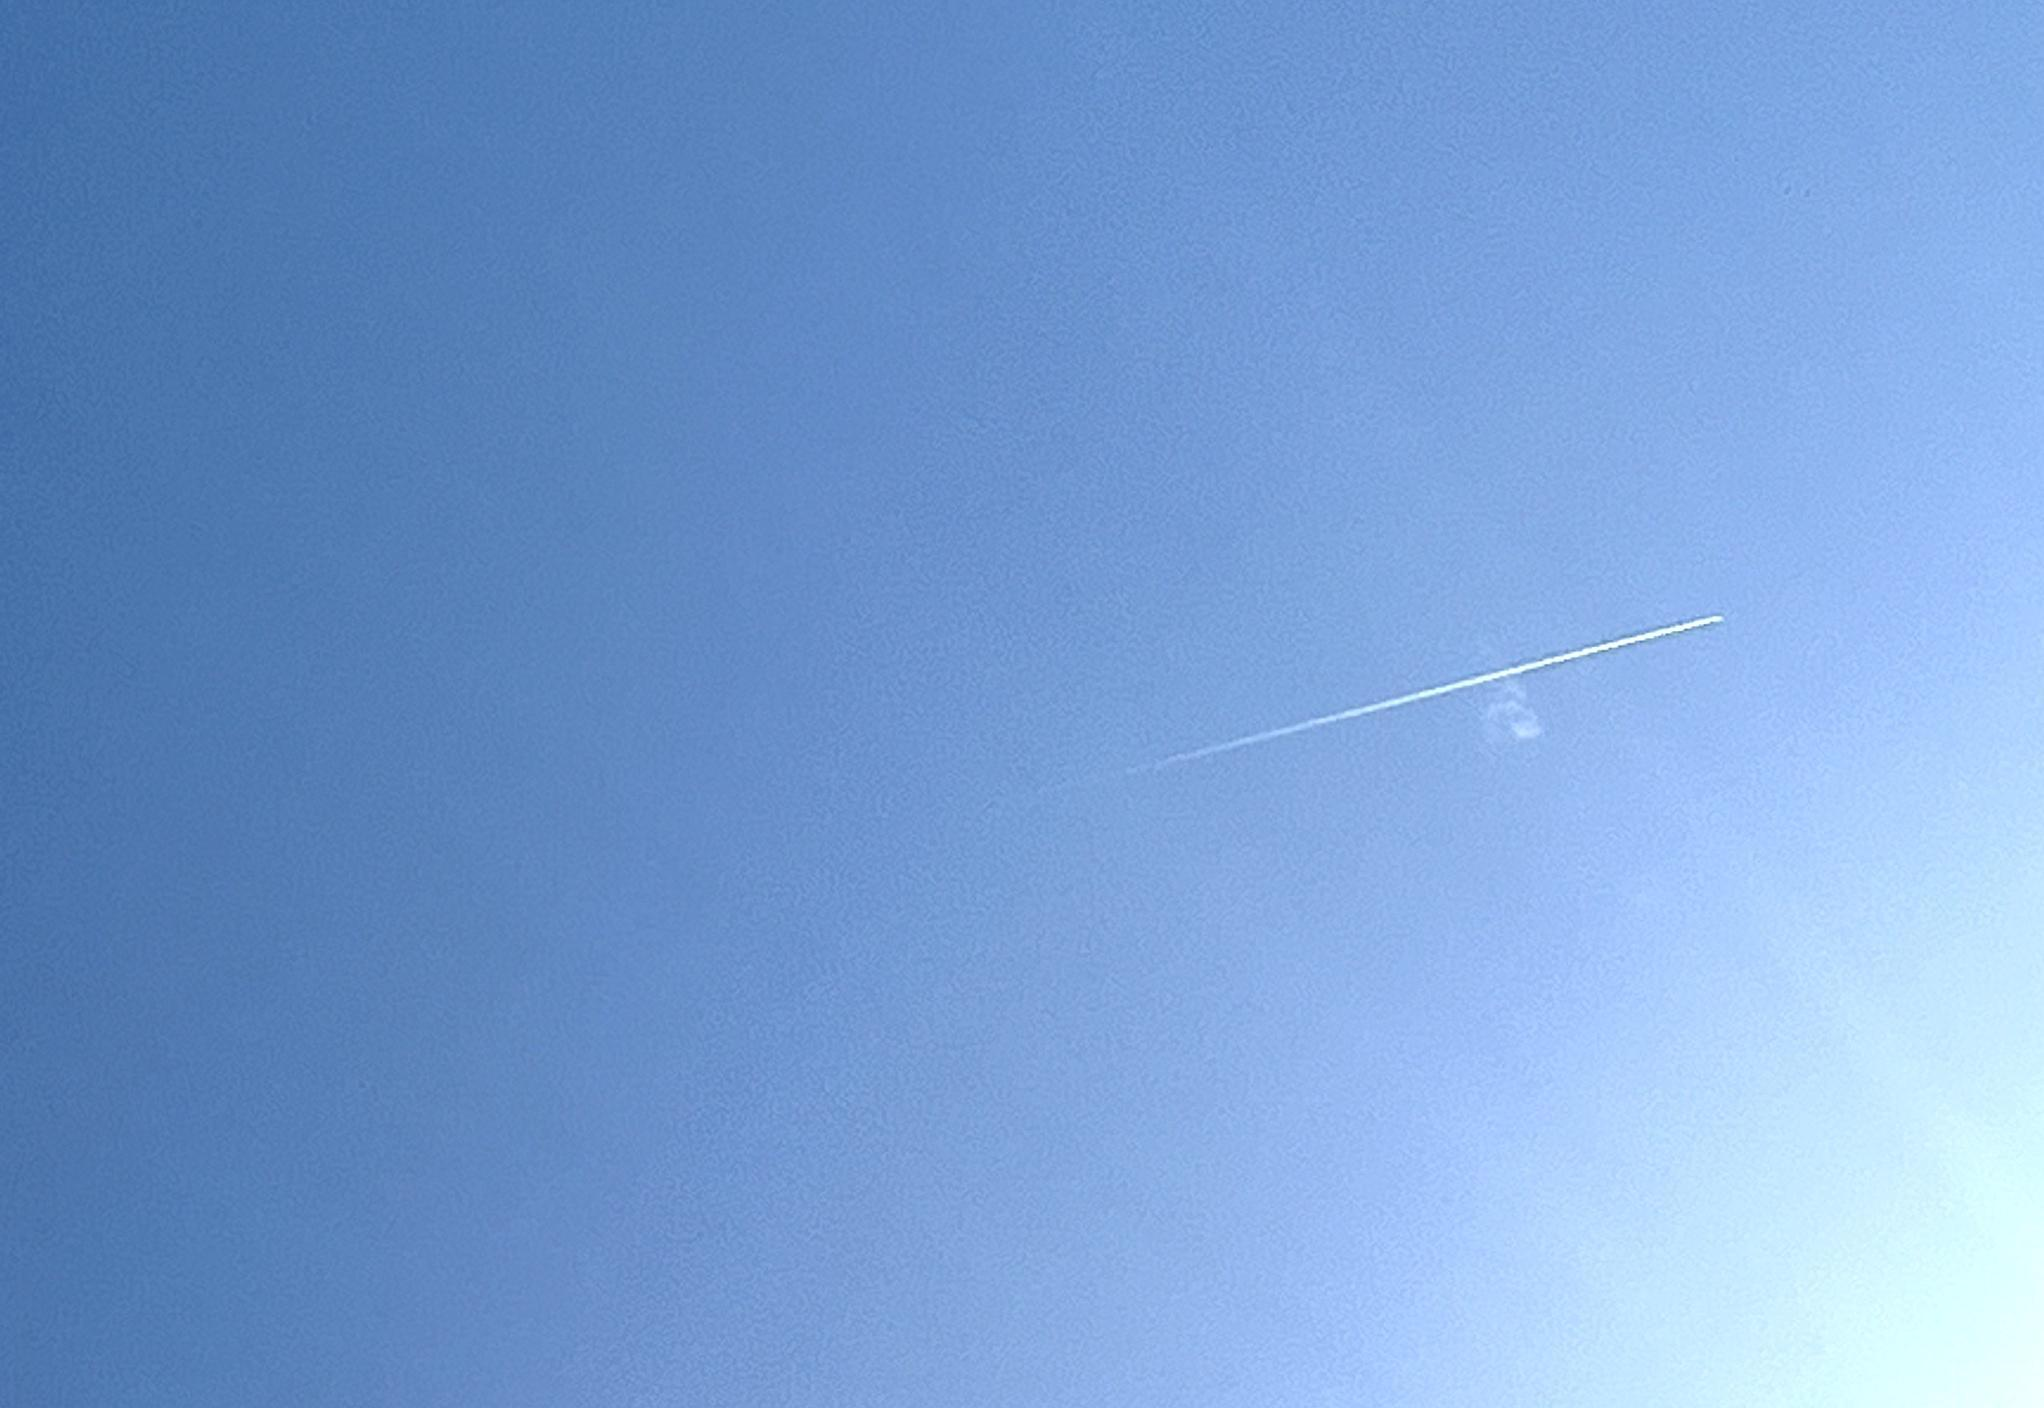Plane: (1089, 591, 1758, 779)
